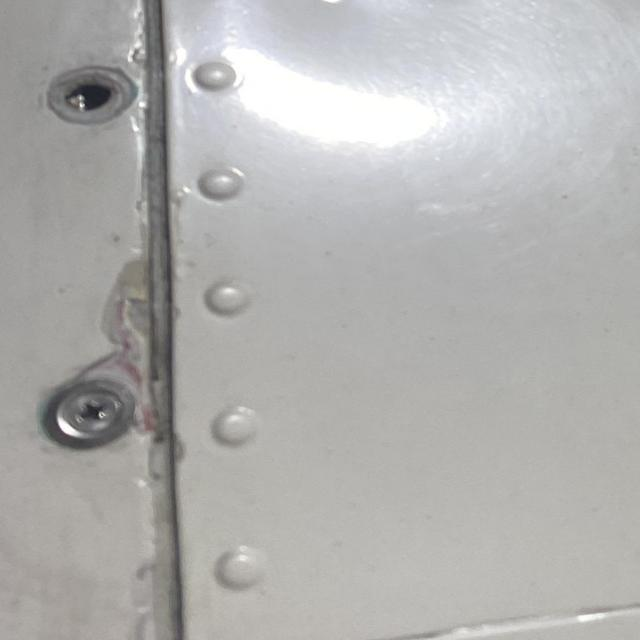Missing-head: (41, 68, 132, 126)
